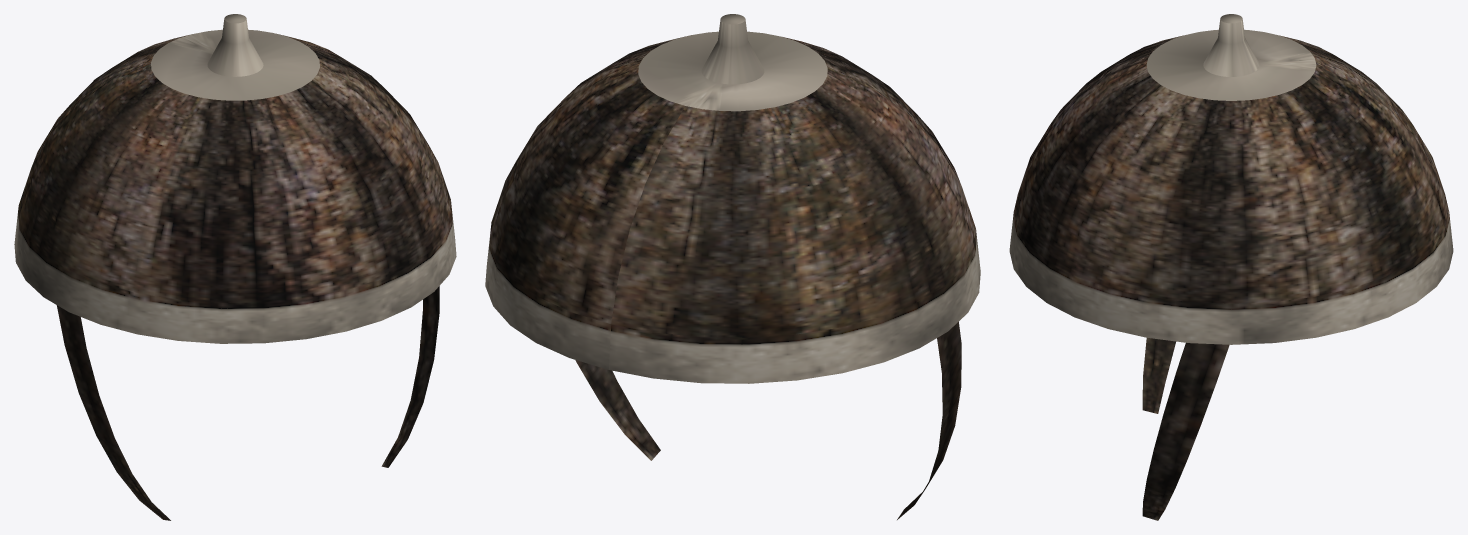
The model's file is lusi_helmet_wood.dae.
3 renders of one model, left to right at view 1: azimuth 30°, elevation 25°; view 2: azimuth 150°, elevation 25°; view 3: azimuth 270°, elevation 25°, orthographic. The views are drawn at different scales.
Visible parts, largest first — view 1: a_helmet_lusi_wood; view 2: a_helmet_lusi_wood; view 3: a_helmet_lusi_wood.
Boxes of the visible parts, x1,y1,x2,y2 form: a_helmet_lusi_wood: (14, 14, 456, 520); a_helmet_lusi_wood: (485, 14, 980, 519); a_helmet_lusi_wood: (1009, 14, 1453, 520).
Bounding box in the file's own units: 0.5551 × 0.5551 × 0.6191.
